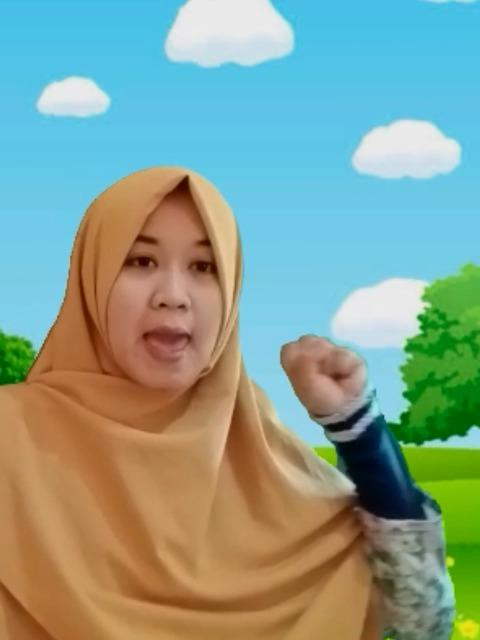S: (278, 331, 365, 411)
